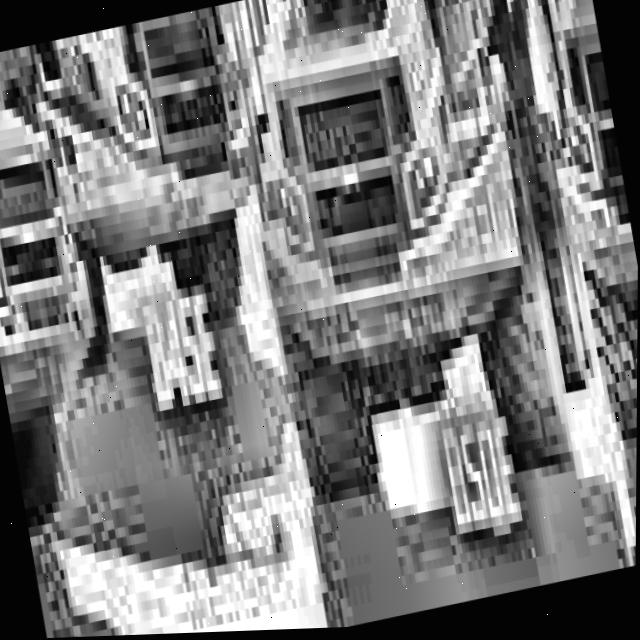dump_truck: (211, 0, 619, 571), (0, 0, 312, 385)
